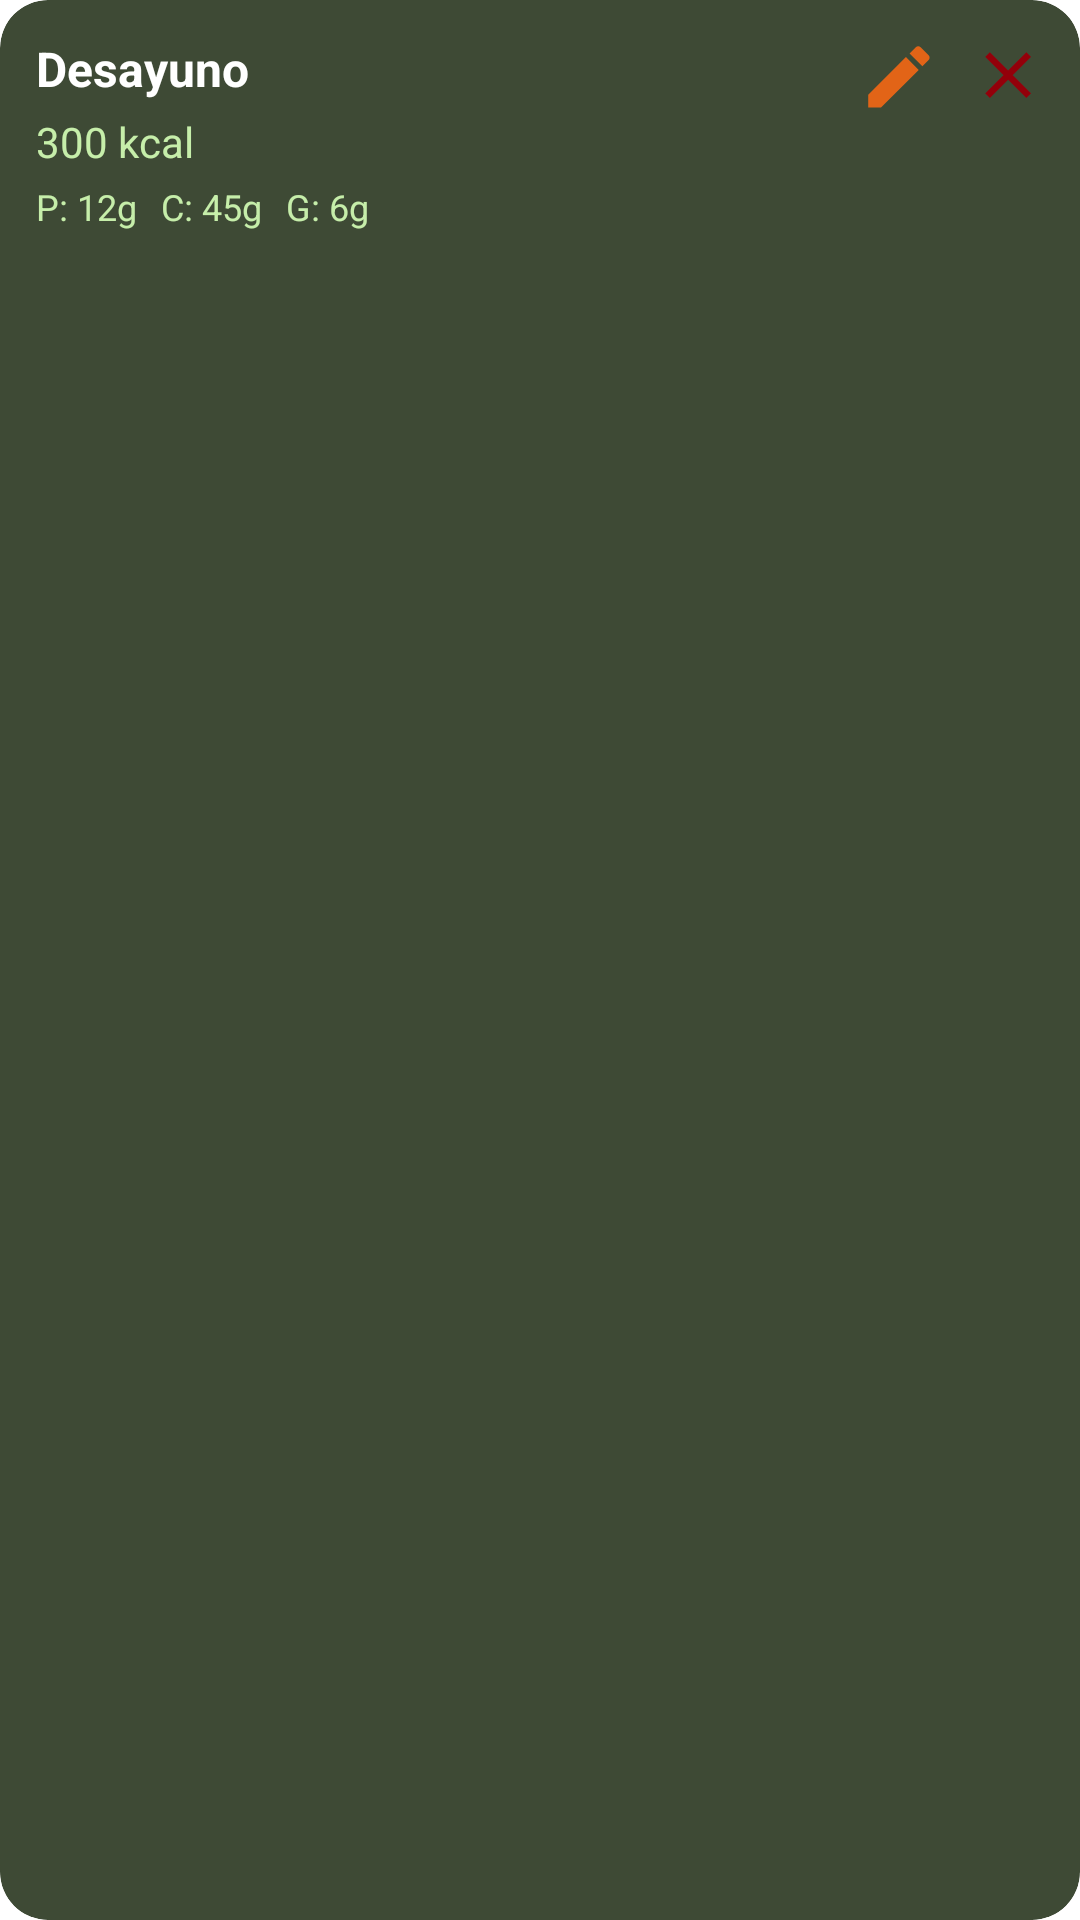

Named icons in this screenshot (1080×1920) and their centers, point (x, y):
Borrar comida: point (1008, 75)
Editar comida: point (899, 77)
